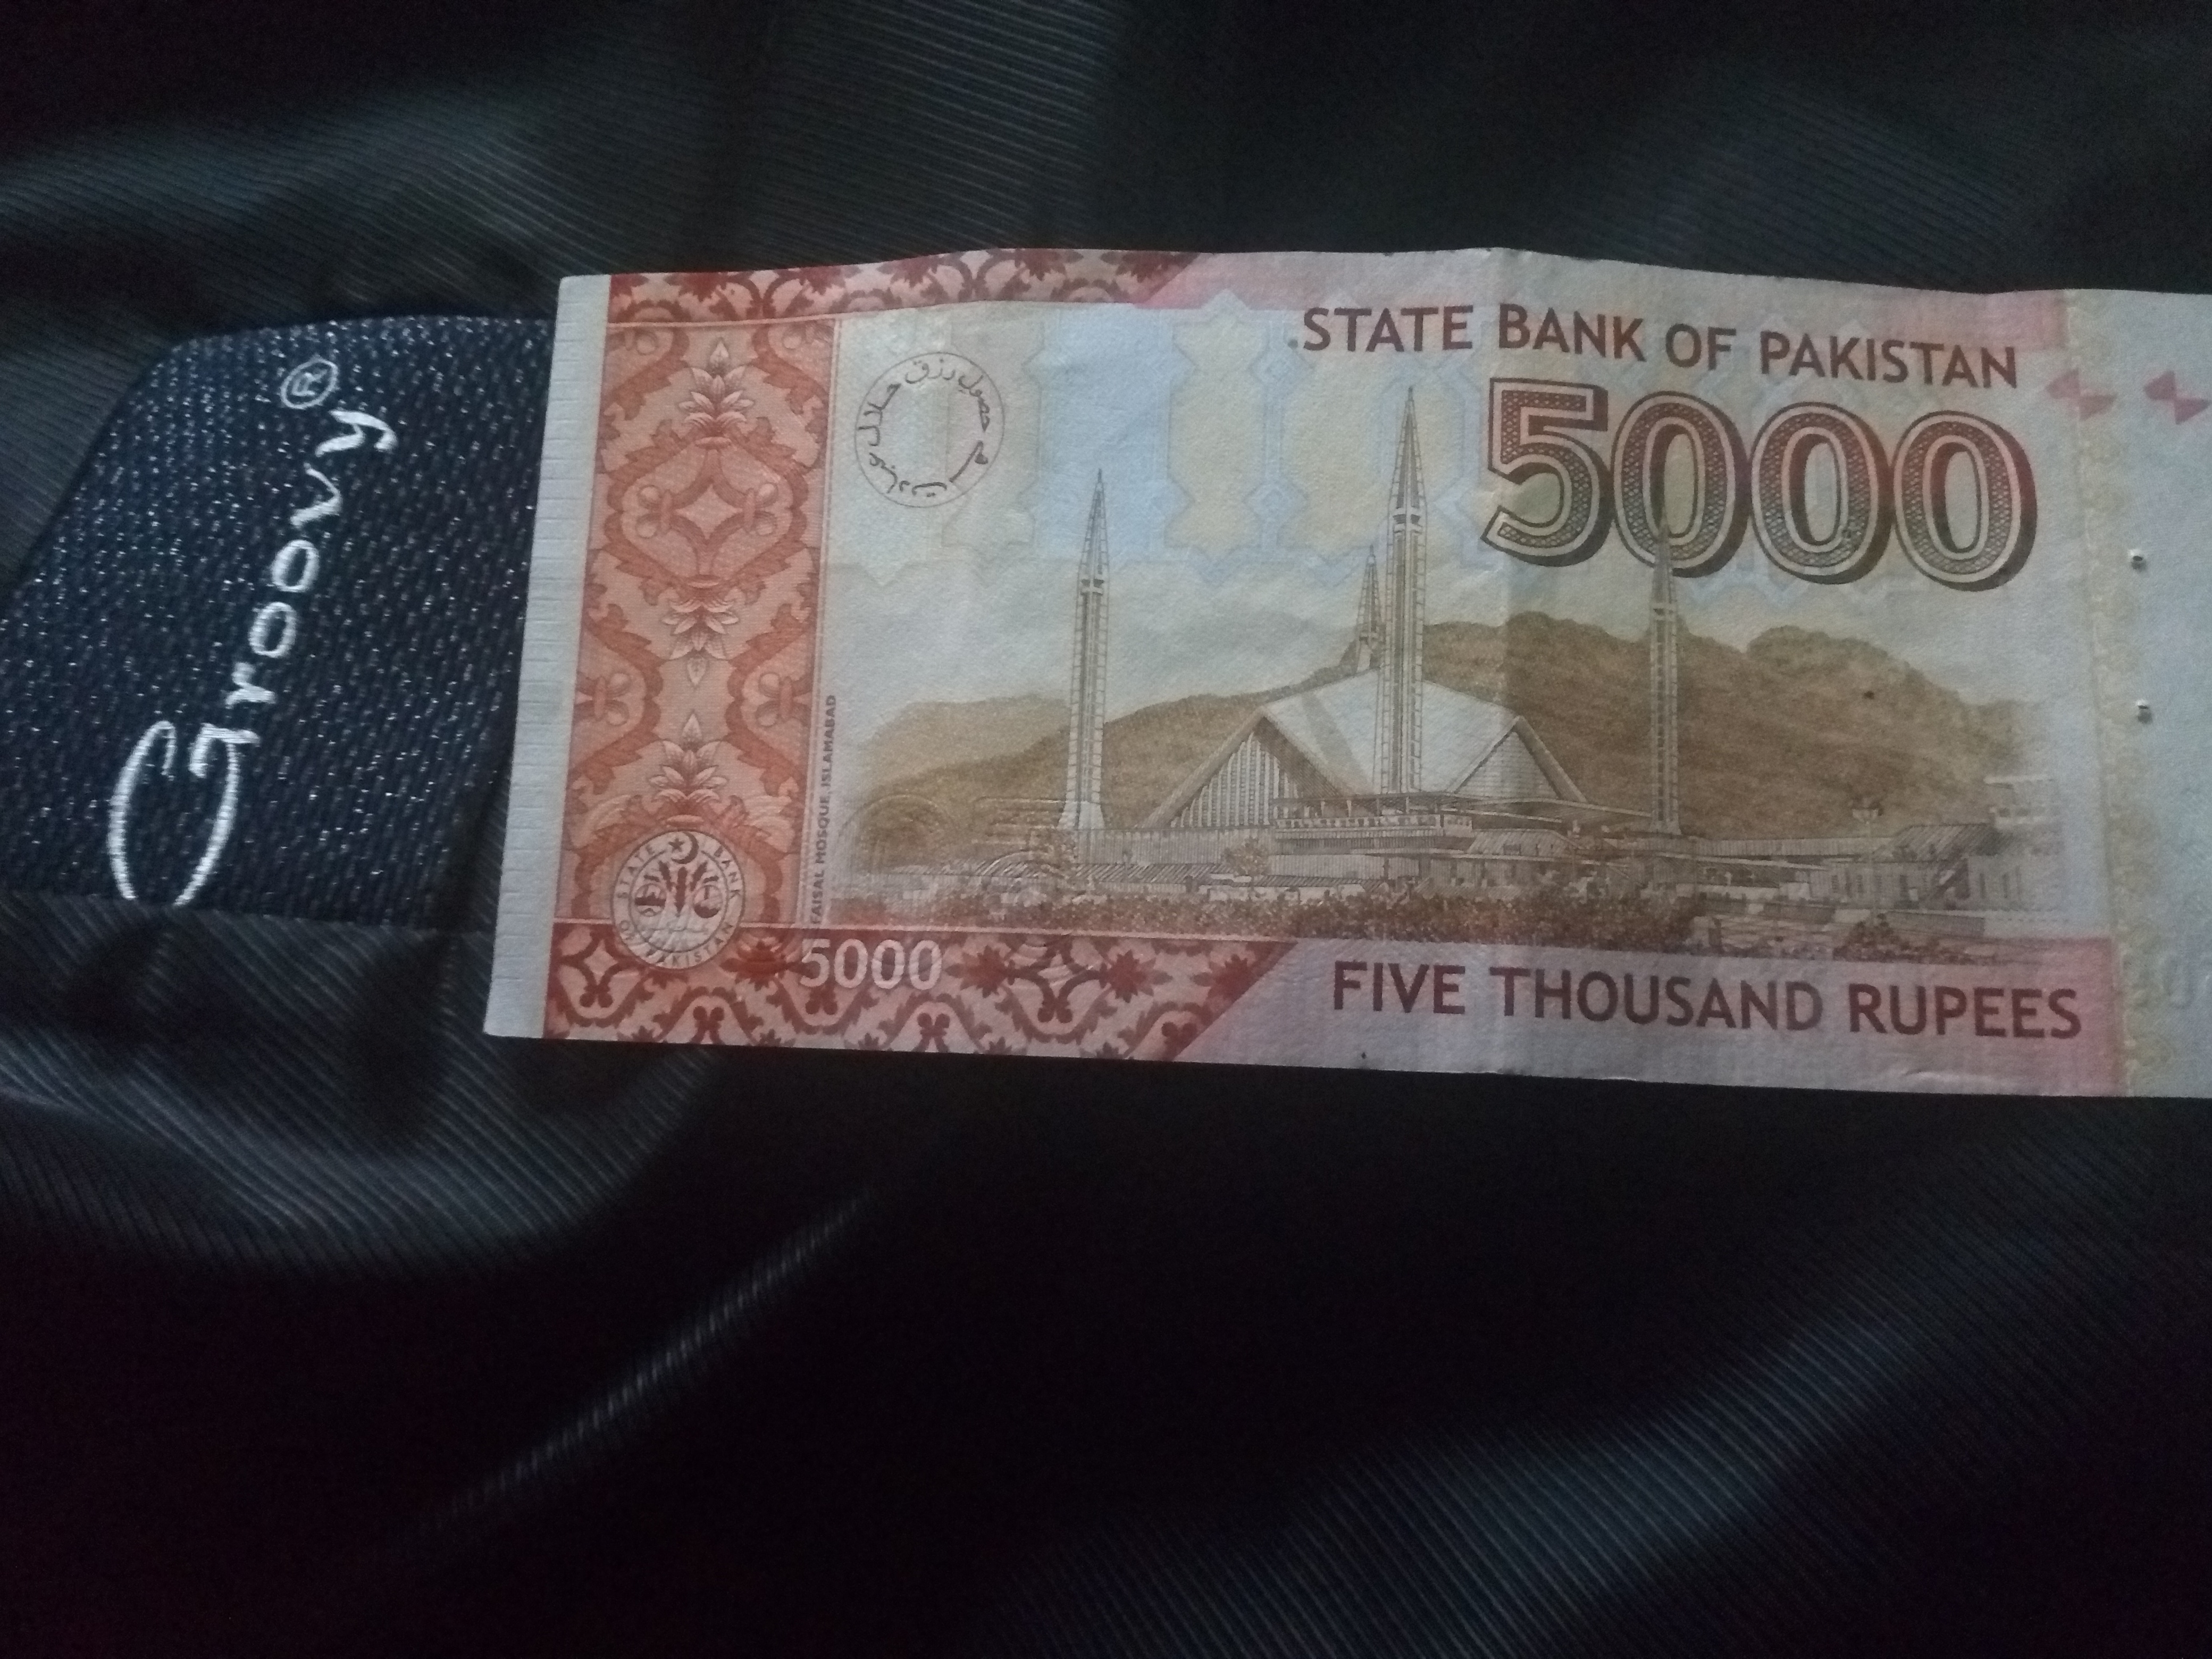5000 rupee: (432, 227, 2179, 1161)
